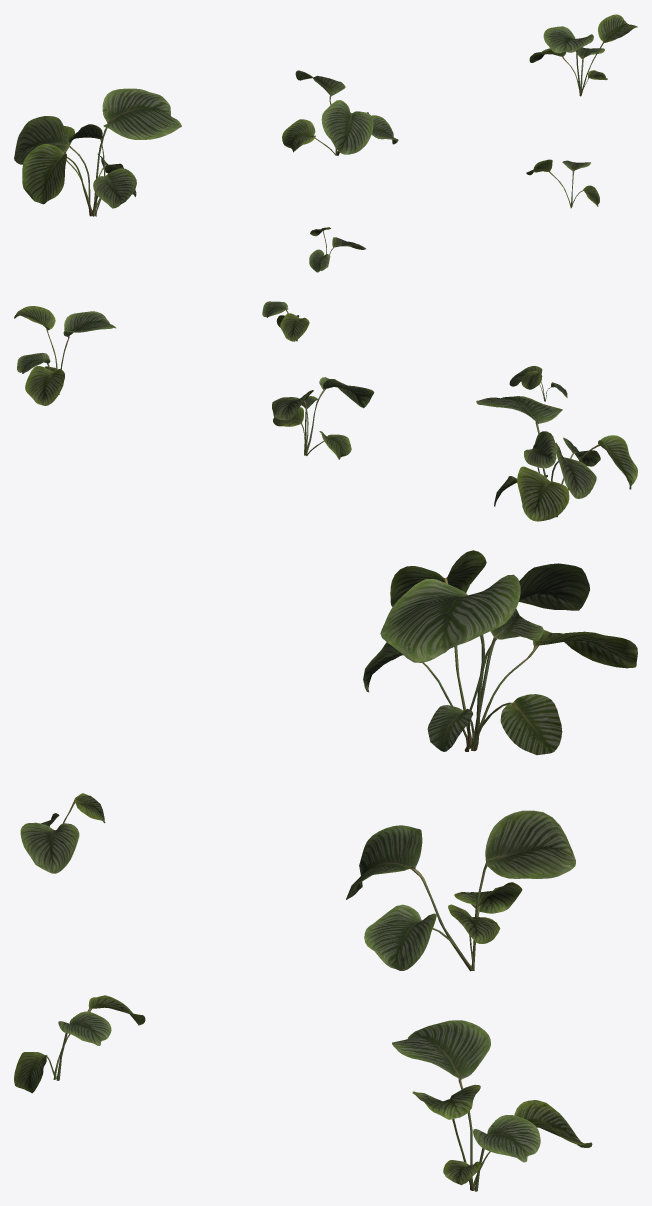
Rendered from calathea_orbifolia_01.glb.
The picture shows the model from 3 angles, top to bottom: view 1: azimuth 30°, elevation 25°; view 2: azimuth 150°, elevation 25°; view 3: azimuth 270°, elevation 25°; orthographic projection. The views are drawn at different scales.
Visible parts, largest first — view 1: Prop; view 2: Prop; view 3: Prop.
Part boxes in pixels (box(x1,y1,x2,y2)): Prop: box(14, 14, 637, 272); Prop: box(14, 301, 637, 521); Prop: box(14, 550, 637, 1191).
Size of the model in its own units: 2.49 by 0.4244 by 1.19.
Materials: 1 (1 with a texture image).
